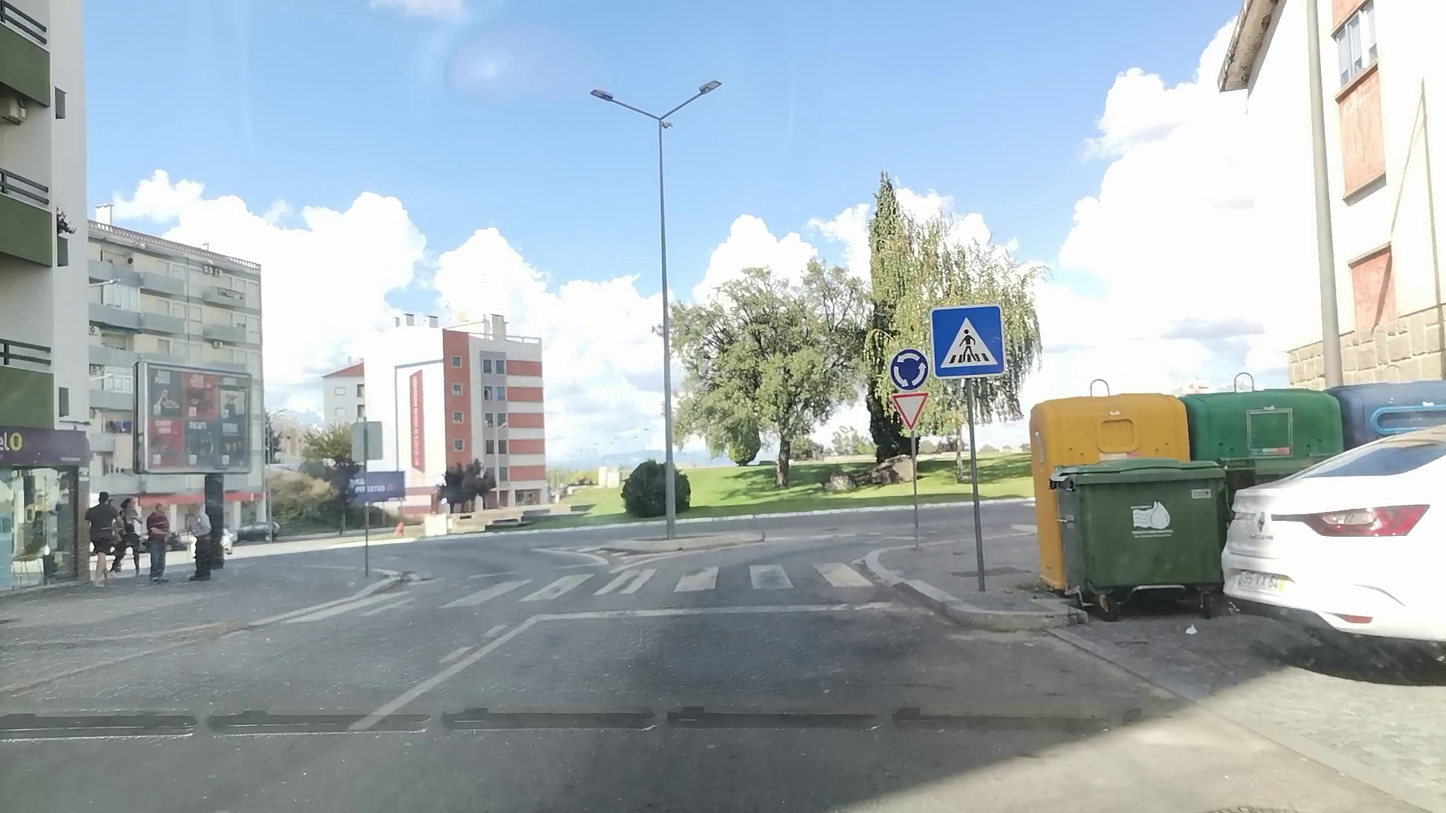Stairs: (262, 560, 875, 627)
